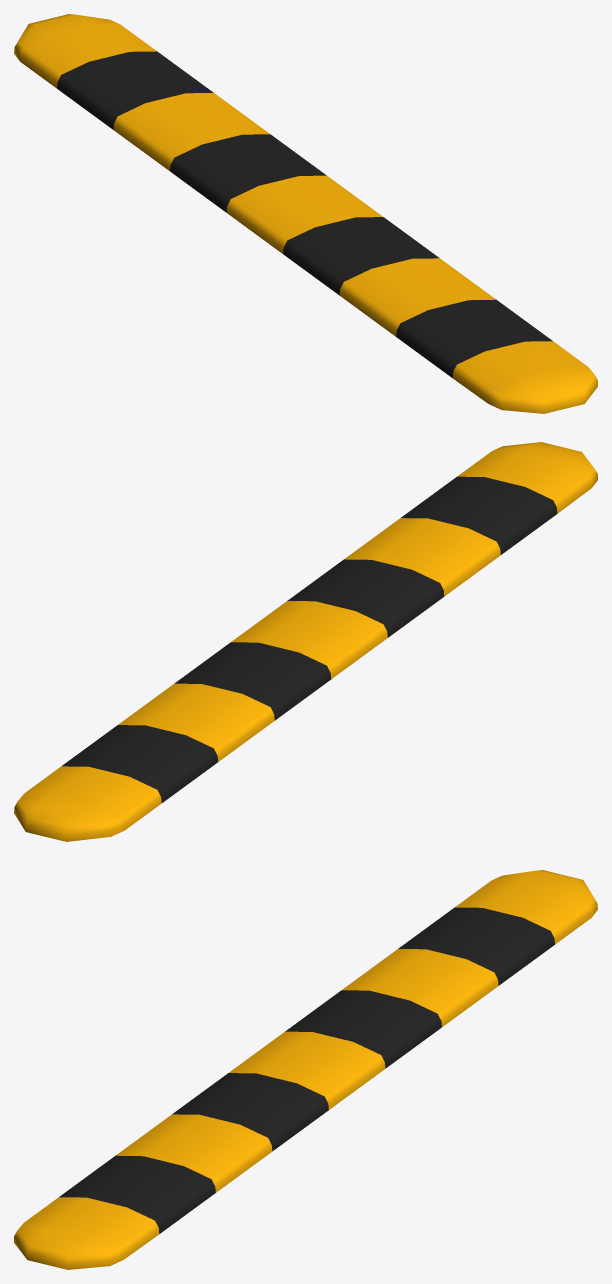
File: prp_11.fbx
3 renders of one model, top to bottom at view 1: azimuth 30°, elevation 25°; view 2: azimuth 150°, elevation 25°; view 3: azimuth 330°, elevation 25°, orthographic.
Parts seen in each view (by area): view 1: pCube2; view 2: pCube2; view 3: pCube2.
Boxes of the visible parts, x1,y1,x2,y2 form: pCube2: (14,14,597,413); pCube2: (14,442,597,841); pCube2: (14,870,597,1269).
Size of the model in its own units: 247 by 43.04 by 2119.
